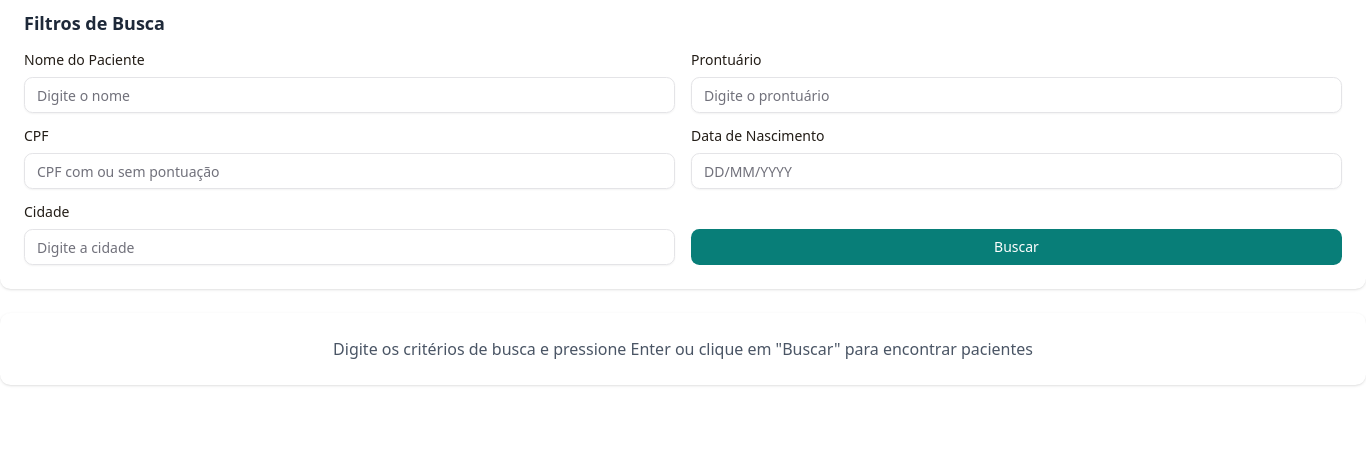
Test: tela de pacientes › mostra zero e mantém navegação bloqueada
Type "Ausente" into the field labelled "Nome do Paciente".
click(350, 95); type("Ausente")  # box [24,77,675,113]
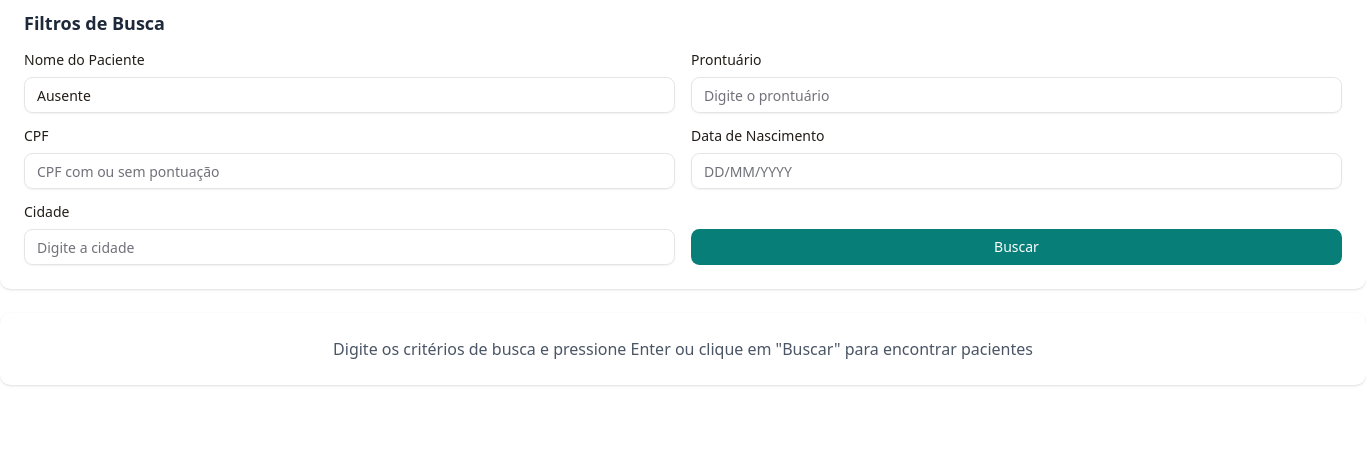
Click the button "Buscar".
click(1016, 247)  # box [691,229,1342,265]
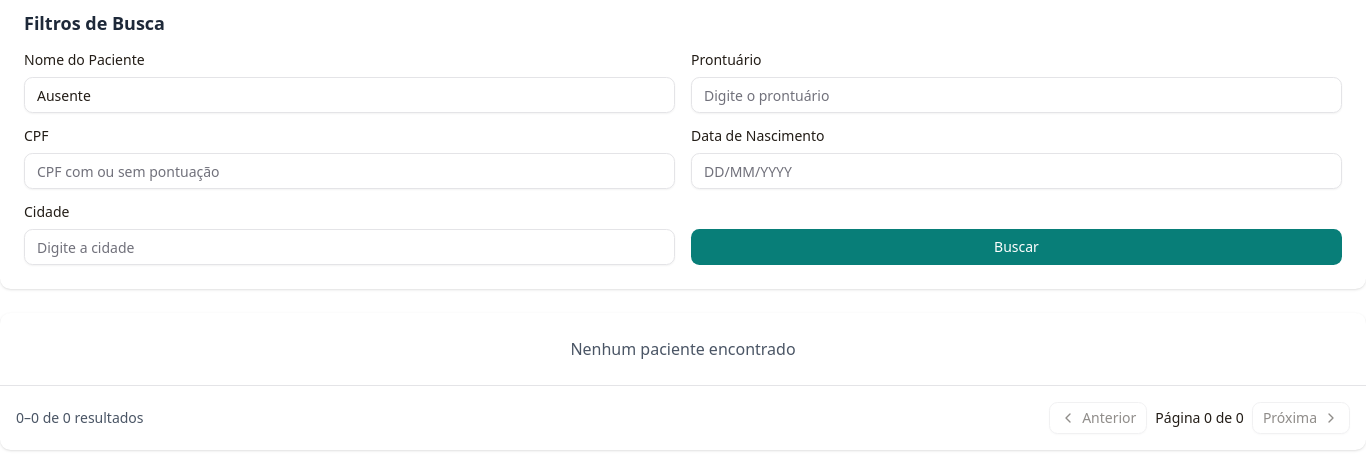
Expected: the text "0–0 de 0 resultados" is shown, [16,408,144,428]
Expected: the button with aria-label "Próxima página" is disabled, [1252,402,1350,434]
